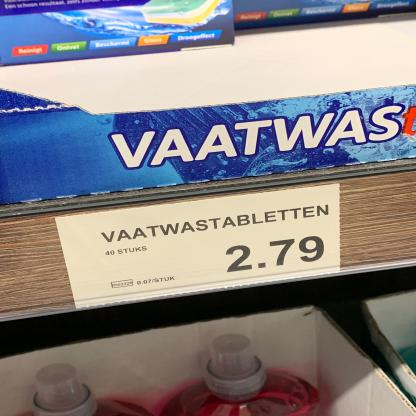prtg: (56, 185, 341, 310)
